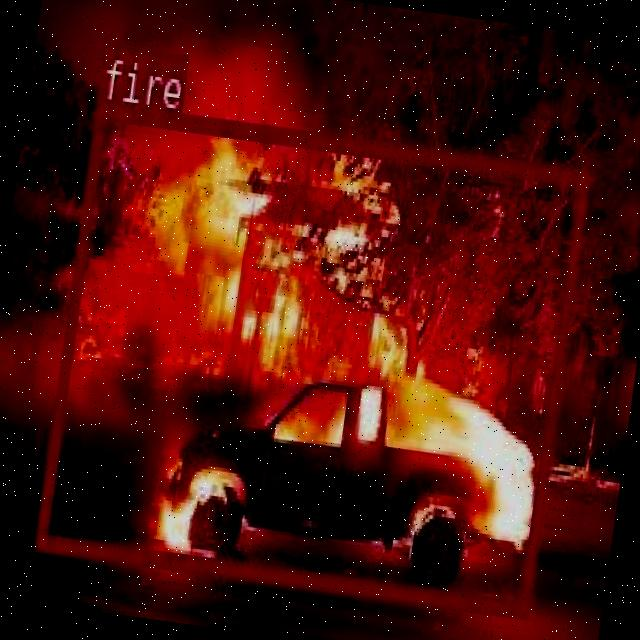fire: (32, 100, 590, 615)
